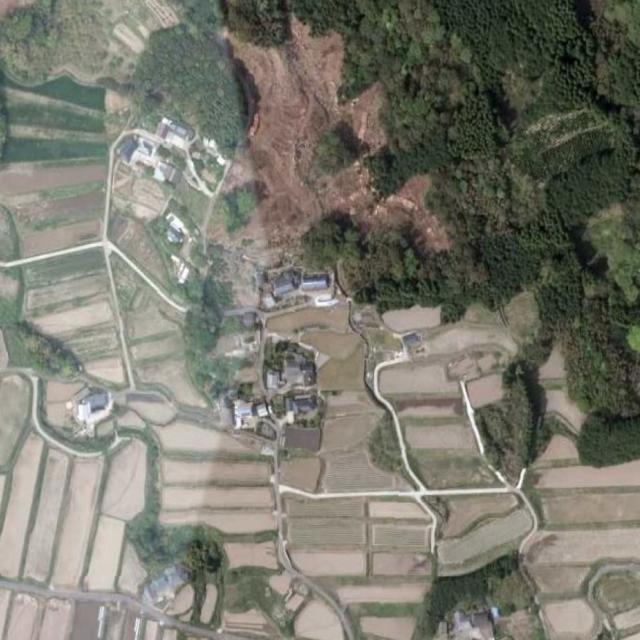landslide: (229, 14, 446, 249)
